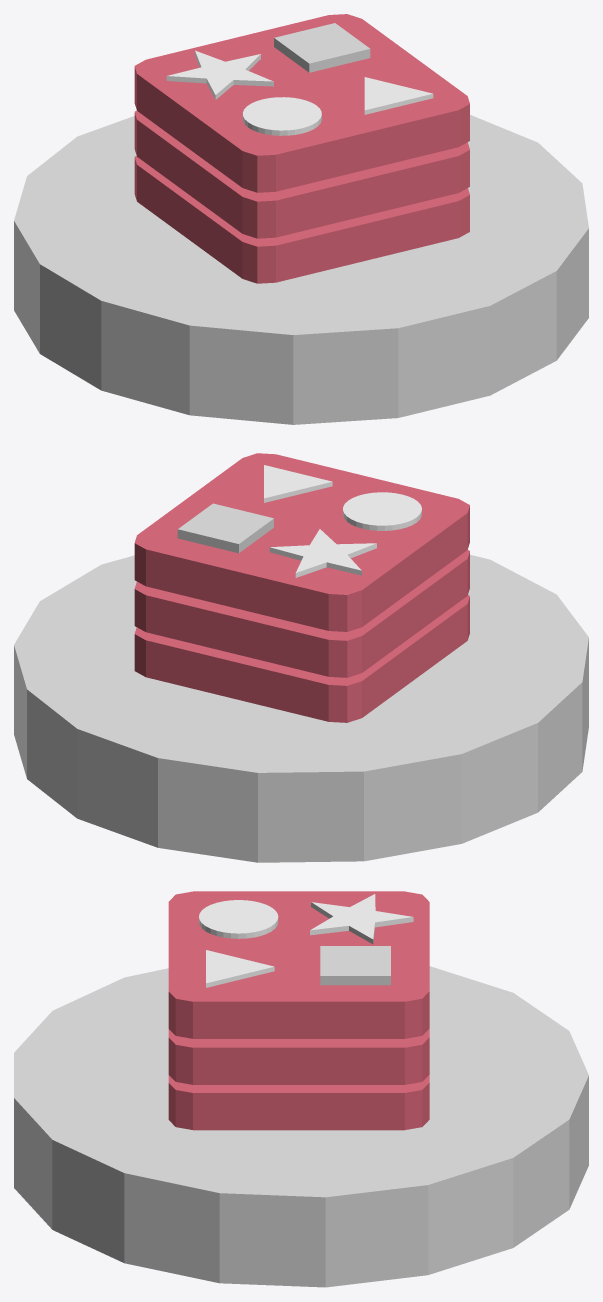
The model's file is redis.fbx.
3 renders of one model, top to bottom at view 1: azimuth 30°, elevation 25°; view 2: azimuth 150°, elevation 25°; view 3: azimuth 270°, elevation 25°, orthographic.
Visible parts, largest first — view 1: Circle, Cube.004, Cube.001, Cube, Cube.003, Cylinder, Circle.002, Circle.001; view 2: Circle, Cube.004, Cube.001, Cube, Cube.003, Cylinder, Circle.002, Circle.001; view 3: Circle, Cube.004, Cube.001, Cube, Cube.003, Cylinder, Circle.002, Circle.001.
Boxes of the visible parts, x1,y1,x2,y2 form: Circle: [14, 115, 588, 424]; Cube.004: [134, 14, 469, 192]; Cube.001: [134, 110, 469, 238]; Cube: [134, 156, 469, 283]; Cube.003: [274, 23, 370, 72]; Cylinder: [242, 97, 321, 135]; Circle.002: [166, 50, 273, 99]; Circle.001: [364, 77, 433, 114]; Circle: [14, 554, 588, 862]; Cube.004: [134, 453, 469, 631]; Cube.001: [134, 550, 469, 677]; Cube: [134, 595, 469, 722]; Cube.003: [177, 503, 273, 553]; Cylinder: [343, 492, 421, 530]; Circle.002: [269, 529, 376, 577]; Circle.001: [264, 465, 332, 502]; Circle: [14, 966, 588, 1287]; Cube.004: [168, 891, 429, 1038]; Cube.001: [168, 1029, 429, 1084]; Cube: [168, 1075, 429, 1130]; Cube.003: [320, 946, 390, 985]; Cylinder: [199, 900, 278, 938]; Circle.002: [310, 894, 413, 944]; Circle.001: [206, 950, 274, 987].
Bounding box in the file's own units: 129 × 56.42 × 129.
